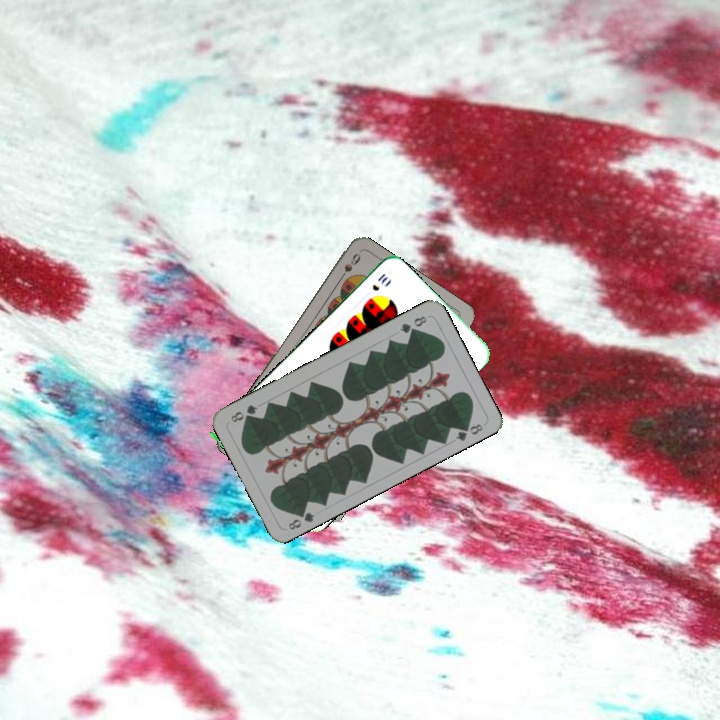G8: (284, 505, 318, 533), (395, 312, 430, 336)
S10: (368, 269, 393, 293)
S9: (334, 249, 363, 285)
